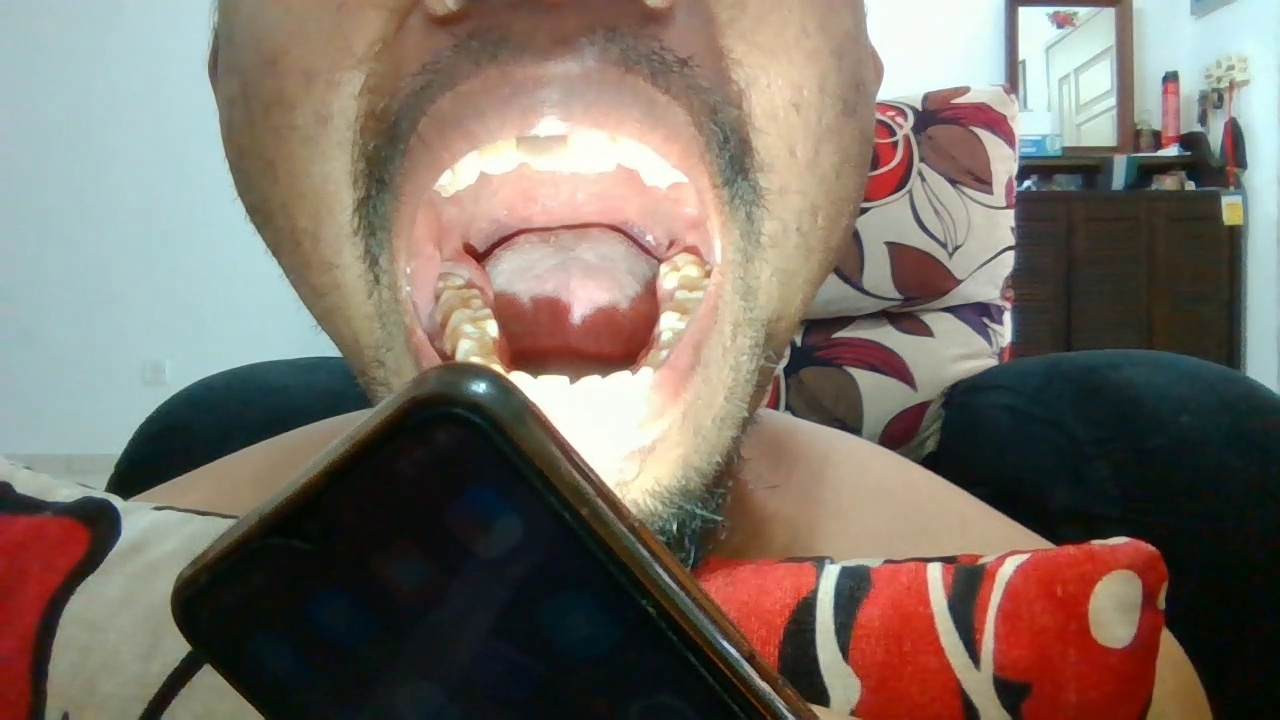1st Molar: (443, 308, 500, 337), (657, 300, 701, 327)
2nd Molar: (437, 288, 485, 311), (671, 274, 712, 299)
2nd Premolar: (455, 335, 499, 362)
3rd Molar: (659, 254, 706, 281), (434, 266, 468, 290)
Canine: (453, 149, 478, 185), (635, 364, 655, 398)
Central Incisor: (570, 132, 617, 174), (516, 135, 569, 166), (570, 374, 604, 408), (537, 375, 570, 405)
Lateral Incisor: (479, 143, 521, 174), (604, 369, 634, 409)
